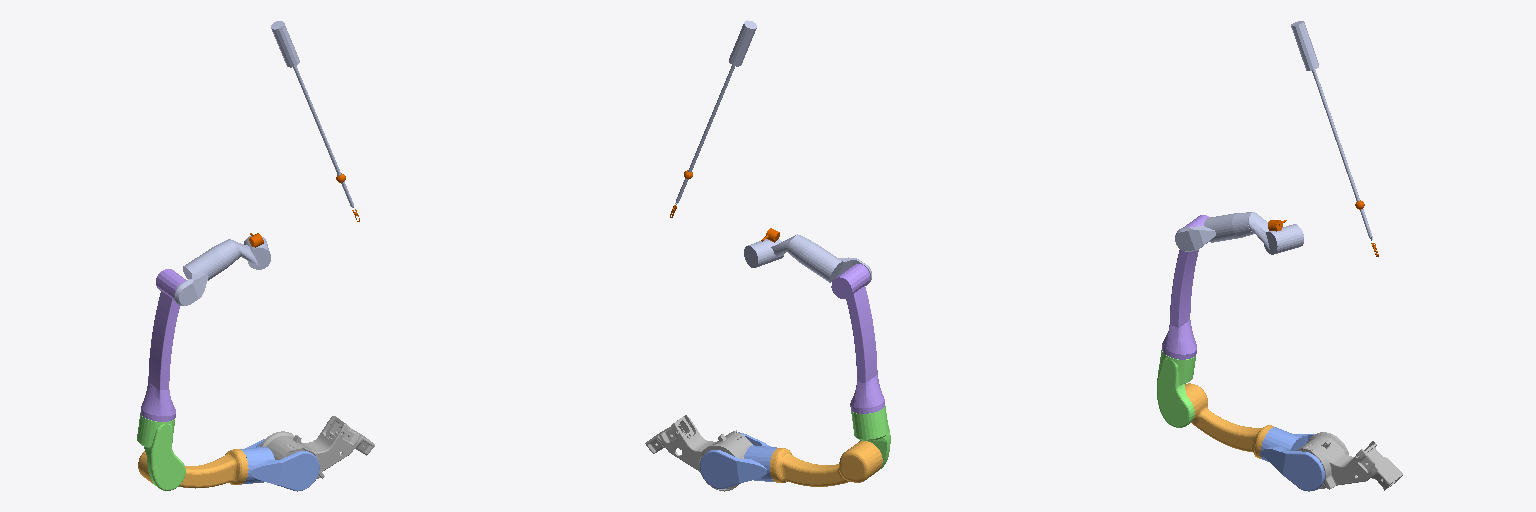
The robot description file, URDF, robot "necessity":
<?xml version="1.0" ?>
<!-- =================================================================================== -->
<!-- |    This document was autogenerated by xacro from necessity.urdf.xacro           | -->
<!-- |    EDITING THIS FILE BY HAND IS NOT RECOMMENDED                                 | -->
<!-- =================================================================================== -->
<robot name="necessity" xmlns:controller="http://playerstage.sourceforge.net/gazebo/xmlschema/#controller" xmlns:interface="http://playerstage.sourceforge.net/gazebo/xmlschema/#interface" xmlns:sensor="http://playerstage.sourceforge.net/gazebo/xmlschema/#sensor" xmlns:xacro="http://ros.org/wiki/xacro">
  <!-- The following include files set up definitions of parts of the robot body -->
  <link name="common_robot_frame"/>
  <link name="arm0_base_link">
    <inertial>
      <origin rpy="0 0 0" xyz="-0.00055124  -0.02427719 -0.02322142"/>
      <mass value="1.9"/>
      <inertia ixx="0.00758967" ixy="0.00001624" ixz="0.00002591" iyy="0.00439493" iyz="0.00281287" izz="0.00472741"/>
    </inertial>
    <visual>
      <origin rpy="0 0 0" xyz="0 0 0"/>
      <geometry>
        <mesh filename="package://necessity_2015_description/meshes/V1_arm1_base_link.STL"/>
      </geometry>
      <material name="">
        <color rgba="0.75294 0.75294 0.75294 1"/>
      </material>
    </visual>
    <collision>
      <origin rpy="0 0 0" xyz="0 0 0"/>
      <geometry>
        <mesh filename="package://necessity_2015_description/meshes/V1_arm1_base_link.STL"/>
      </geometry>
    </collision>
  </link>
  <link name="arm0_shoulder_pitch_link">
    <inertial>
      <origin rpy="0 0 0" xyz="0.06218887 0 0.00000160"/>
      <mass value="1.195"/>
      <inertia ixx="0.00183098" ixy="0" ixz="0.00000007" iyy="0.00350504" iyz="0" izz="0.00256228"/>
    </inertial>
    <visual>
      <origin rpy="0 0 0" xyz="0 0 0"/>
      <geometry>
        <mesh filename="package://necessity_2015_description/meshes/V1_arm1_shoulder_pitch_link.STL"/>
      </geometry>
      <material name="">
        <color rgba="0.6 0.72549 1 1"/>
      </material>
    </visual>
    <collision>
      <origin rpy="0 0 0" xyz="0 0 0"/>
      <geometry>
        <mesh filename="package://necessity_2015_description/meshes/V1_arm1_shoulder_pitch_link.STL"/>
      </geometry>
    </collision>
  </link>
  <joint name="arm0_shoulder_pitch_joint" type="revolute">
    <origin rpy="1.5708 -1.0472 1.5708" xyz="0 0 0"/>
    <parent link="arm0_base_link"/>
    <child link="arm0_shoulder_pitch_link"/>
    <axis xyz="0 0 1"/>
    <limit effort="30" lower="-2.3607" upper=".7809" velocity="1.0"/>
  </joint>
  <link name="arm0_shoulder_roll_link">
    <inertial>
      <origin rpy="0 0 0" xyz="0.00448948 -0.00254241 -0.07314239"/>
      <mass value="1.183"/>
      <inertia ixx="0.00753429" ixy="-0.00007070" ixz="0.00096970" iyy="0.00779969" iyz="-0.00032930" izz="0.00088178"/>
    </inertial>
    <visual>
      <origin rpy="0 0 0" xyz="0 0 0"/>
      <geometry>
        <mesh filename="package://necessity_2015_description/meshes/V1_arm1_shoulder_roll_link.STL"/>
      </geometry>
      <material name="">
        <color rgba="1 0.75686 0.38431 1"/>
      </material>
    </visual>
    <collision>
      <origin rpy="0 0 0" xyz="0 0 0"/>
      <geometry>
        <mesh filename="package://necessity_2015_description/meshes/V1_arm1_shoulder_roll_link.STL"/>
      </geometry>
    </collision>
  </link>
  <joint name="arm0_shoulder_roll_joint" type="revolute">
    <origin rpy="1.5708 0 1.5708" xyz="0.32385 0 0"/>
    <parent link="arm0_shoulder_pitch_link"/>
    <child link="arm0_shoulder_roll_link"/>
    <axis xyz="0 0 1"/>
    <limit effort="30" lower="-1.5708" upper="1.5708" velocity="1.0"/>
  </joint>
  <link name="arm0_elbow_link">
    <inertial>
      <origin rpy="0 0 0" xyz="0.02404932 0.06734925 -0.02975223"/>
      <mass value="1.281"/>
      <inertia ixx="0.00269566" ixy="0.00050162" ixz="0.00013679" iyy="0.00112075" iyz="0.00055297" izz="0.00279944"/>
    </inertial>
    <visual>
      <origin rpy="0 0 0" xyz="0 0 0"/>
      <geometry>
        <mesh filename="package://necessity_2015_description/meshes/V1_arm1_elbow_link.STL"/>
      </geometry>
      <material name="">
        <color rgba="0.61569 1 0.55294 1"/>
      </material>
    </visual>
    <collision>
      <origin rpy="0 0 0" xyz="0 0 0"/>
      <geometry>
        <mesh filename="package://necessity_2015_description/meshes/V1_arm1_elbow_link.STL"/>
      </geometry>
    </collision>
  </link>
  <joint name="arm0_elbow_joint" type="revolute">
    <origin rpy="-1.5708 -1.5708 0" xyz="0.02 0 0"/>
    <parent link="arm0_shoulder_roll_link"/>
    <child link="arm0_elbow_link"/>
    <axis xyz="0 0 1"/>
    <limit effort="30" lower="-1.5708" upper="1.5708" velocity="1.0"/>
  </joint>
  <link name="arm0_forearm_link">
    <inertial>
      <origin rpy="0 0 0" xyz="0.00000202 0.00575916 0.27761774"/>
      <mass value="0.942"/>
      <inertia ixx="0.01148491" ixy="0" ixz="-0.00000012" iyy="0.01162392" iyz="-0.00000700" izz="0.00047604"/>
    </inertial>
    <visual>
      <origin rpy="0 0 0" xyz="0 0 0"/>
      <geometry>
        <mesh filename="package://necessity_2015_description/meshes/V1_arm1_forearm_link.STL"/>
      </geometry>
      <material name="">
        <color rgba="0.76471 0.64706 1 1"/>
      </material>
    </visual>
    <collision>
      <origin rpy="0 0 0" xyz="0 0 0"/>
      <geometry>
        <mesh filename="package://necessity_2015_description/meshes/V1_arm1_forearm_link.STL"/>
      </geometry>
    </collision>
  </link>
  <joint name="arm0_forearm_joint" type="revolute">
    <origin rpy="-1.5708 -1.5708 0" xyz=".03000 0 -0.02110"/>
    <parent link="arm0_elbow_link"/>
    <child link="arm0_forearm_link"/>
    <axis xyz="0 0 1"/>
    <limit effort="30" lower="-1.5708" upper="1.5708" velocity="1.0"/>
  </joint>
  <link name="arm0_spherical_base_link">
    <inertial>
      <origin rpy="0 0 0" xyz="0.07922596 0 -0.00707007"/>
      <mass value="0.600"/>
      <inertia ixx="0.00032575" ixy="0" ixz="0.00025917" iyy="0.00123265" iyz="0" izz="0.00110614"/>
    </inertial>
    <visual>
      <origin rpy="0 0 0" xyz="0 0 0"/>
      <geometry>
        <mesh filename="package://necessity_2015_description/meshes/V1_arm1_spherical_base_link.STL"/>
      </geometry>
      <material name="">
        <color rgba="0.79216 0.81961 0.93333 1"/>
      </material>
    </visual>
    <collision>
      <origin rpy="0 0 0" xyz="0 0 0"/>
      <geometry>
        <mesh filename="package://necessity_2015_description/meshes/V1_arm1_spherical_base_link.STL"/>
      </geometry>
    </collision>
  </link>
  <joint name="arm0_spherical_base_joint" type="revolute">
    <origin rpy="-1.5708 -0.5236 -1.5708" xyz="0 0 0.415"/>
    <parent link="arm0_forearm_link"/>
    <child link="arm0_spherical_base_link"/>
    <axis xyz="0 0 1"/>
    <limit effort="30" lower="-1.4820" upper="+2.0087" velocity="1.0"/>
  </joint>
  <link name="arm0_spherical_roll_link">
    <inertial>
      <origin rpy="0 0 0" xyz="0.04054375 0.01898139 0.00108566"/>
      <mass value="0.6"/>
      <inertia ixx="0.46781819" ixy="0.06782344" ixz="0.12992694" iyy="0.44469162" iyz="0.11374943" izz="0.45643901"/>
    </inertial>
    <visual>
      <origin rpy="0 0 0" xyz="0 0 0"/>
      <geometry>
        <mesh filename="package://necessity_2015_description/meshes/V1_arm1_spherical_roll_link.STL"/>
      </geometry>
      <material name="">
        <color rgba="0.79216 0.81961 0.93333 1"/>
      </material>
    </visual>
    <collision>
      <origin rpy="0 0 0" xyz="0 0 0"/>
      <geometry>
        <mesh filename="package://necessity_2015_description/meshes/V1_arm1_spherical_roll_link.STL"/>
      </geometry>
    </collision>
  </link>
  <joint name="arm0_spherical_roll_joint" type="revolute">
    <origin rpy="1.5708 0.18773 1.5708" xyz="0.19322 0 0"/>
    <parent link="arm0_spherical_base_link"/>
    <child link="arm0_spherical_roll_link"/>
    <axis xyz="0 0 1"/>
    <limit effort="30" lower="-4.71239" upper="4.71239" velocity="1.0"/>
  </joint>
  <link name="arm0_pitch_A_link">
    <inertial>
      <origin rpy="0 0 0" xyz="0.05719705 -0.00004469 0.06919435"/>
      <mass value="0.243"/>
      <inertia ixx="0.00005379" ixy="0.00000004" ixz="0" iyy="0.00049133" iyz="-0.00000007" izz="0.00053231"/>
    </inertial>
    <visual>
      <origin rpy="0 0 0" xyz="0 0 0"/>
      <geometry>
        <mesh filename="package://necessity_2015_description/meshes/V1_arm1_pitch_A_link.STL"/>
      </geometry>
      <material name="">
        <color rgba="0.792156862745098 0.819607843137255 0.933333333333333 1"/>
      </material>
    </visual>
    <collision>
      <origin rpy="0 0 0" xyz="0 0 0"/>
      <geometry>
        <mesh filename="package://necessity_2015_description/meshes/V1_arm1_pitch_A_link.STL"/>
      </geometry>
    </collision>
  </link>
  <joint name="arm0_pitch_A_joint" type="revolute">
    <origin rpy="1.20376785038861 0.254936892774236 3.04493720059253" xyz="0.04753 0 0"/>
    <parent link="arm0_spherical_roll_link"/>
    <child link="arm0_pitch_A_link"/>
    <axis xyz="0 0 1"/>
    <limit effort="30" lower="-1.4198" upper="1.0236" velocity="1.0"/>
  </joint>
  <link name="arm0_pitch_B_link">
    <inertial>
      <origin rpy="0 0 0" xyz="0.11423799 -0.00002767 0.0230957192"/>
      <mass value="0.487"/>
      <inertia ixx="0.00011057" ixy="0.00000046" ixz="0.00000147" iyy="0.00293978" iyz="0" izz="0.00302469"/>
    </inertial>
    <visual>
      <origin rpy="0 0 0" xyz="0 0 0"/>
      <geometry>
        <mesh filename="package://necessity_2015_description/meshes/V1_arm1_pitch_B_link.STL"/>
      </geometry>
      <material name="">
        <color rgba="0.792156862745098 0.819607843137255 0.933333333333333 1"/>
      </material>
    </visual>
    <collision>
      <origin rpy="0 0 0" xyz="0 0 0"/>
      <geometry>
        <mesh filename="package://necessity_2015_description/meshes/V1_arm1_pitch_B_link.STL"/>
      </geometry>
    </collision>
  </link>
  <joint name="arm0_pitch_B_joint" type="revolute">
    <origin rpy="0 0 1.633628" xyz="0.1143 0 0.06419"/>
    <parent link="arm0_pitch_A_link"/>
    <child link="arm0_pitch_B_link"/>
    <axis xyz="0 0 1"/>
    <limit effort="30" lower="-1.0236" upper="1.4198" velocity="1.0"/>
    <mimic joint="arm0_pitch_A_joint" multiplier="-1.0" offset="0"/>
  </joint>
  <link name="arm0_pitch_C_link">
    <inertial>
      <origin rpy="0 0 0" xyz="-0.00636062 -0.09760294 -0.01788714"/>
      <mass value="0.500"/>
      <inertia ixx="0.00648952" ixy="0.00082224" ixz="0.00014234" iyy="0.00050852" iyz="0.00104333" izz="0.00650370"/>
    </inertial>
    <visual>
      <origin rpy="0 0 0" xyz="0 0 0"/>
      <geometry>
        <mesh filename="package://necessity_2015_description/meshes/V1_arm1_pitch_C_link.STL"/>
      </geometry>
      <material name="">
        <color rgba="0.792156862745098 0.819607843137255 0.933333333333333 1"/>
      </material>
    </visual>
    <collision>
      <origin rpy="0 0 0" xyz="0 0 0"/>
      <geometry>
        <mesh filename="package://necessity_2015_description/meshes/V1_arm1_pitch_C_link.STL"/>
      </geometry>
    </collision>
  </link>
  <joint name="arm0_pitch_C_joint" type="revolute">
    <origin rpy="0 0 0.275762" xyz="0.2286 0 0"/>
    <parent link="arm0_pitch_B_link"/>
    <child link="arm0_pitch_C_link"/>
    <axis xyz="0 0 1"/>
    <limit effort="30" lower="-1.4198" upper="1.0236" velocity="1.0"/>
    <mimic joint="arm0_pitch_A_joint" multiplier="1.0" offset="0"/>
  </joint>
  <link name="arm0_tool_translate_link">
    <inertial>
      <origin rpy="0 0 0" xyz="-0.01953409 0.00743989 0.26133068"/>
      <mass value="0.800"/>
      <inertia ixx="0.00164842" ixy="-0.00006503" ixz="0.00010273" iyy="0.00179004" iyz="-0.00002099" izz="0.00059810"/>
    </inertial>
    <visual>
      <origin rpy="0 0 0" xyz="0 0 0"/>
      <geometry>
        <mesh filename="package://necessity_2015_description/meshes/V1_arm1_tool_translate_link.STL"/>
      </geometry>
      <material name="">
        <color rgba="1 0.50196 0.50196 1"/>
      </material>
    </visual>
    <collision>
      <origin rpy="0 0 0" xyz="0 0 0"/>
      <geometry>
        <mesh filename="package://necessity_2015_description/meshes/V1_arm1_tool_translate_link.STL"/>
      </geometry>
    </collision>
  </link>
  <joint name="arm0_tool_translate_joint" type="prismatic">
    <origin rpy="1.7453 0 0" xyz="0.0379 0 0"/>
    <parent link="arm0_pitch_C_link"/>
    <child link="arm0_tool_translate_link"/>
    <axis xyz="0 0 1"/>
    <limit effort="30" lower="-.167" upper=".092" velocity="1.0"/>
  </joint>
  <link name="arm0_tool_rotate_link">
    <inertial>
      <origin rpy="0 0 0" xyz="0 0 0.38715"/>
      <mass value="0.05"/>
      <inertia ixx="0.00069673" ixy="0" ixz="0" iyy="0.00069673" iyz="0" izz="0.00000444"/>
    </inertial>
    <visual>
      <origin rpy="0 0 0" xyz="0 0 0"/>
      <geometry>
        <mesh filename="package://necessity_2015_description/meshes/V1_arm1_tool_rotate_link.STL"/>
      </geometry>
      <material name="">
        <color rgba="0.79216 0.81961 0.93333 1"/>
      </material>
    </visual>
    <collision>
      <origin rpy="0 0 0" xyz="0 0 0"/>
      <geometry>
        <mesh filename="package://necessity_2015_description/meshes/V1_arm1_tool_rotate_link.STL"/>
      </geometry>
    </collision>
  </link>
  <joint name="arm0_tool_rotate_joint" type="revolute">
    <origin rpy="0 0 0" xyz="0 0 -0.1891"/>
    <parent link="arm0_tool_translate_link"/>
    <child link="arm0_tool_rotate_link"/>
    <axis xyz="0 0 1"/>
    <limit effort="30" lower="-7.85398" upper="7.85398" velocity="1.0"/>
  </joint>
  <link name="arm0_proximal_wrist_link">
    <inertial>
      <origin rpy="0 0 0" xyz="0.00506523 0 0"/>
      <mass value="0.005"/>
      <inertia ixx="0.00000004" ixy="0" ixz="0" iyy="0.00000015" iyz="0" izz="0.00000014"/>
    </inertial>
    <visual>
      <origin rpy="0 0 0" xyz="0 0 0"/>
      <geometry>
        <mesh filename="package://necessity_2015_description/meshes/V1_arm1_proximal_wrist_link.STL"/>
      </geometry>
      <material name="">
        <color rgba="0 1 0 1"/>
      </material>
    </visual>
    <collision>
      <origin rpy="0 0 0" xyz="0 0 0"/>
      <geometry>
        <mesh filename="package://necessity_2015_description/meshes/V1_arm1_proximal_wrist_link.STL"/>
      </geometry>
    </collision>
  </link>
  <joint name="arm0_proximal_wrist_joint" type="revolute">
    <origin rpy="1.5708 1.5708 0" xyz="0 0 0"/>
    <parent link="arm0_tool_rotate_link"/>
    <child link="arm0_proximal_wrist_link"/>
    <axis xyz="0 0 1"/>
    <limit effort="30" lower="-1.5708" upper="1.5708" velocity="1.0"/>
  </joint>
  <link name="arm0_distal_wrist_link">
</link>
  <joint name="arm0_distal_wrist_joint" type="revolute">
    <origin rpy="-1.5708 0 0" xyz="0.012333 0 0"/>
    <parent link="arm0_proximal_wrist_link"/>
    <child link="arm0_distal_wrist_link"/>
    <axis xyz="0 0 1"/>
    <limit effort="30" lower="-1.5708" upper="1.5708" velocity="1.0"/>
  </joint>
  <link name="arm0_jaw_a_link">
    <inertial>
      <origin rpy="0 0 0" xyz="0.0073012 0.00043319 0.0015031"/>
      <mass value="0.005"/>
      <inertia ixx="0.00000003" ixy="0.00000002" ixz="-0.00000004" iyy="0.00000037" iyz="0" izz="0.00000036"/>
    </inertial>
    <visual>
      <origin rpy="0 0 0" xyz="0 0 0"/>
      <geometry>
        <mesh filename="package://necessity_2015_description/meshes/V1_arm1_jaw_a_link.STL"/>
      </geometry>
      <material name="">
        <color rgba="0.9098 0.44314 0.031373 1"/>
      </material>
    </visual>
    <collision>
      <origin rpy="0 0 0" xyz="0 0 0"/>
      <geometry>
        <mesh filename="package://necessity_2015_description/meshes/V1_arm1_jaw_a_link.STL"/>
      </geometry>
    </collision>
  </link>
  <joint name="arm0_jaw_a_joint" type="revolute">
    <origin rpy="0 0 0" xyz="0 0 0"/>
    <parent link="arm0_distal_wrist_link"/>
    <child link="arm0_jaw_a_link"/>
    <axis xyz="0 0 1"/>
    <limit effort="30" lower="-1.5708" upper="1.5708" velocity="1.0"/>
  </joint>
  <link name="arm0_jaw_b_link">
    <inertial>
      <origin rpy="0 0 0" xyz="0.0073012 0.00043319 0.0015031"/>
      <mass value="0.005"/>
      <inertia ixx="0.00000003" ixy="0.00000002" ixz="-0.00000004" iyy="0.00000037" iyz="0" izz="0.00000036"/>
    </inertial>
    <visual>
      <origin rpy="0 0 0" xyz="0 0 0"/>
      <geometry>
        <mesh filename="package://necessity_2015_description/meshes/V1_arm1_jaw_b_link.STL"/>
      </geometry>
      <material name="">
        <color rgba="0.9098 0.44314 0.031373 1"/>
      </material>
    </visual>
    <collision>
      <origin rpy="0 0 0" xyz="0 0 0"/>
      <geometry>
        <mesh filename="package://necessity_2015_description/meshes/V1_arm1_jaw_b_link.STL"/>
      </geometry>
    </collision>
  </link>
  <joint name="arm0_jaw_b_joint" type="revolute">
    <origin rpy="0 0 0" xyz="0 0 0"/>
    <parent link="arm0_distal_wrist_link"/>
    <child link="arm0_jaw_b_link"/>
    <axis xyz="0 0 1"/>
    <limit effort="30" lower="-1.5708" upper="1.5708" velocity="1.0"/>
  </joint>
  

/* ATI force-torque sensor: 

  
  <link name="arm0_ft_sensor_link">
    <inertial>
      <origin rpy="0 0 0" xyz="0.00082860 0 -0.01099715"/>
      <mass value="0.063"/>
      <inertia ixx="0.00000474" ixy="0.0000000" ixz="-0.00000032" iyy="0.00000597" iyz="-0.00000002" izz="0.00000595"/>
    </inertial>
    <visual>
      <origin rpy="0 0 0" xyz="0 0 0"/>
      <geometry>
        <mesh filename="package://necessity_2015_description/meshes/V1_arm1_ATI_sensor_link.STL"/>
      </geometry>
      <material name="">
        <color rgba="0.9098 0.44314 0.031373 1"/>
      </material>
    </visual>
    <collision>
      <origin rpy="0 0 0" xyz="0 0 0"/>
      <geometry>
        <mesh filename="package://necessity_2015_description/meshes/V1_arm1_ATI_sensor_link.STL"/>
      </geometry>
    </collision>
  </link>
  <joint name="arm0_ft_sensor_joint" type="fixed">
    <origin rpy="-3.037  0  1.7038" xyz="0.012333 0 0"/>
    <parent link="arm0_spherical_roll_link"/>
    <child link="arm0_ft_sensor_link"/>
  </joint>
  

/* Remote Center of Motion (RCM) link

  
  <link name="arm0_rcm_link">
    <inertial>
      <origin rpy="0 0 0" xyz="0 0 0"/>
      <mass value="0.001"/>
      <inertia ixx="0.000004" ixy="0.0000000" ixz="0.0000000" iyy="0.00000004" iyz="0.00000000" izz="0.00000004"/>
    </inertial>
    <visual>
      <origin rpy="0 0 0" xyz="0 0 0"/>
      <geometry>
        <mesh filename="package://necessity_2015_description/meshes/V1_arm1_RCM_link.STL"/>
      </geometry>
      <material name="">
        <color rgba="0.9098 0.44314 0.031373 1"/>
      </material>
    </visual>
    <collision>
      <origin rpy="0 0 0" xyz="0 0 0"/>
      <geometry>
        <mesh filename="package://necessity_2015_description/meshes/V1_arm1_RCM_link.STL"/>
      </geometry>
    </collision>
  </link>
  <joint name="arm0_rcm_joint" type="fixed">
    <origin rpy="-1.3844 -0.3566 -0.065734" xyz="0.037902 0.10784 0.019015"/>
    <parent link="arm0_pitch_C_link"/>
    <child link="arm0_rcm_link"/>
  </joint>
  <joint name="arm0_world_joint" type="floating">
    <child link="arm0_base_link"/>
    <parent link="common_robot_frame"/>
    <origin rpy="-0.9 0.0 1.57" xyz="0.3 0.6 1.2"/>
  </joint>
</robot>

--- What the picture shows (computed from the rendered views, not written in the file) ---
The picture shows the robot from 3 angles, left to right: view 1: azimuth 30°, elevation 25°; view 2: azimuth 150°, elevation 25°; view 3: azimuth 330°, elevation 25°; orthographic projection.
Model necessity with 19 links and 18 joints (14 revolute, 1 prismatic, 2 fixed, 1 floating), rooted at common_robot_frame, posed every joint at zero.
Links seen in each view (by area): view 1: arm0_forearm_link, arm0_base_link, arm0_shoulder_pitch_link, arm0_elbow_link, arm0_spherical_base_link, arm0_shoulder_roll_link, arm0_tool_rotate_link, arm0_spherical_roll_link; view 2: arm0_forearm_link, arm0_shoulder_roll_link, arm0_base_link, arm0_shoulder_pitch_link, arm0_spherical_base_link, arm0_elbow_link, arm0_tool_rotate_link, arm0_spherical_roll_link; view 3: arm0_base_link, arm0_forearm_link, arm0_shoulder_pitch_link, arm0_elbow_link, arm0_shoulder_roll_link, arm0_spherical_base_link, arm0_tool_rotate_link, arm0_spherical_roll_link.
Boxes of the visible links, box(x1,y1,x2,y2) form: arm0_forearm_link: box(140, 269, 185, 421); arm0_base_link: box(260, 416, 374, 488); arm0_shoulder_pitch_link: box(240, 439, 319, 491); arm0_elbow_link: box(137, 412, 185, 490); arm0_spherical_base_link: box(174, 239, 239, 305); arm0_shoulder_roll_link: box(138, 449, 248, 488); arm0_tool_rotate_link: box(271, 21, 353, 207); arm0_spherical_roll_link: box(229, 236, 270, 269); arm0_forearm_link: box(831, 264, 884, 413); arm0_shoulder_roll_link: box(770, 441, 882, 486); arm0_base_link: box(645, 415, 752, 491); arm0_shoulder_pitch_link: box(700, 432, 776, 488); arm0_spherical_base_link: box(787, 235, 871, 285); arm0_elbow_link: box(851, 406, 890, 468); arm0_tool_rotate_link: box(675, 20, 756, 204); arm0_spherical_roll_link: box(744, 234, 797, 267); arm0_base_link: box(1297, 432, 1402, 490); arm0_forearm_link: box(1162, 215, 1209, 359); arm0_shoulder_pitch_link: box(1260, 427, 1324, 491); arm0_elbow_link: box(1157, 350, 1195, 427); arm0_shoulder_roll_link: box(1185, 383, 1273, 458); arm0_spherical_base_link: box(1175, 212, 1254, 251); arm0_tool_rotate_link: box(1291, 21, 1372, 240); arm0_spherical_roll_link: box(1248, 212, 1303, 254).
Size in the robot's own frame: 0.5694 by 0.1296 by 1.09 metres.
Meshes: 17 distinct files referenced, 12 mesh visuals loaded (12 binary STL); not drawn: 5 (reference not matched to a file when rendering).
